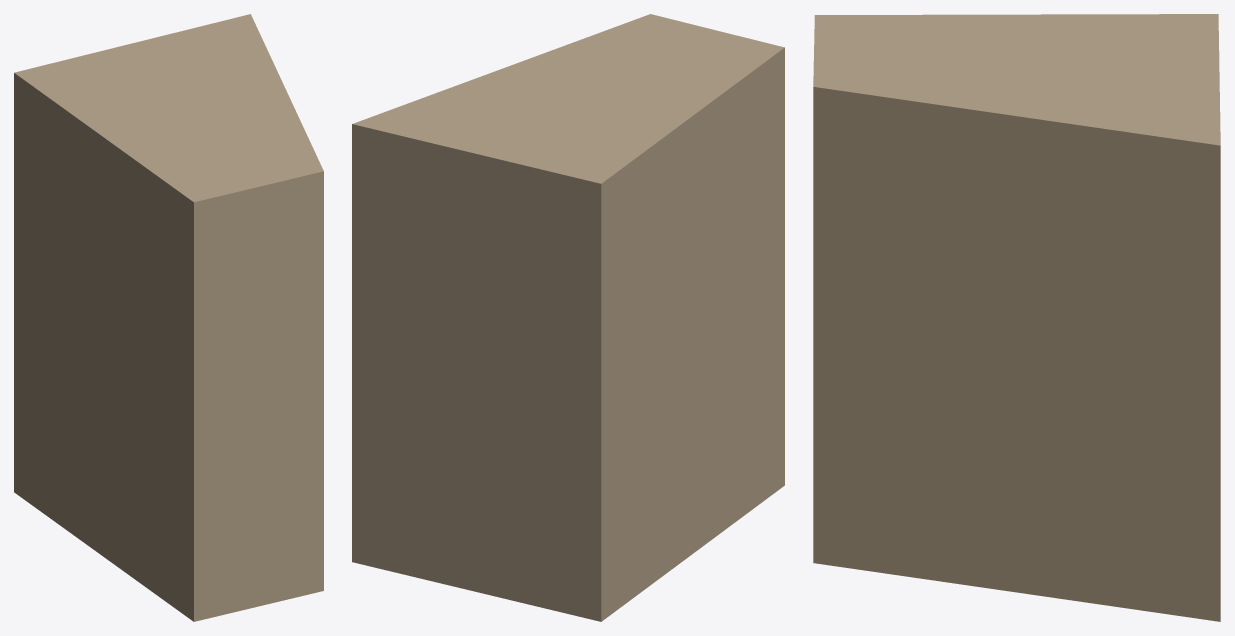
Rendered from bld_101353717.dae.
3 views of the same model, side by side, from view 1: azimuth 30°, elevation 25°; view 2: azimuth 150°, elevation 25°; view 3: azimuth 270°, elevation 25° (orthographic). The views are drawn at different scales.
Parts seen in each view (by area): view 1: bld_101353717; view 2: bld_101353717; view 3: bld_101353717.
Part boxes in pixels (bbox=[...]): bld_101353717: bbox=[14, 14, 323, 621]; bld_101353717: bbox=[352, 14, 784, 621]; bld_101353717: bbox=[813, 14, 1220, 621].
Size of the model in its own units: 4.74 by 6.2 by 8.
